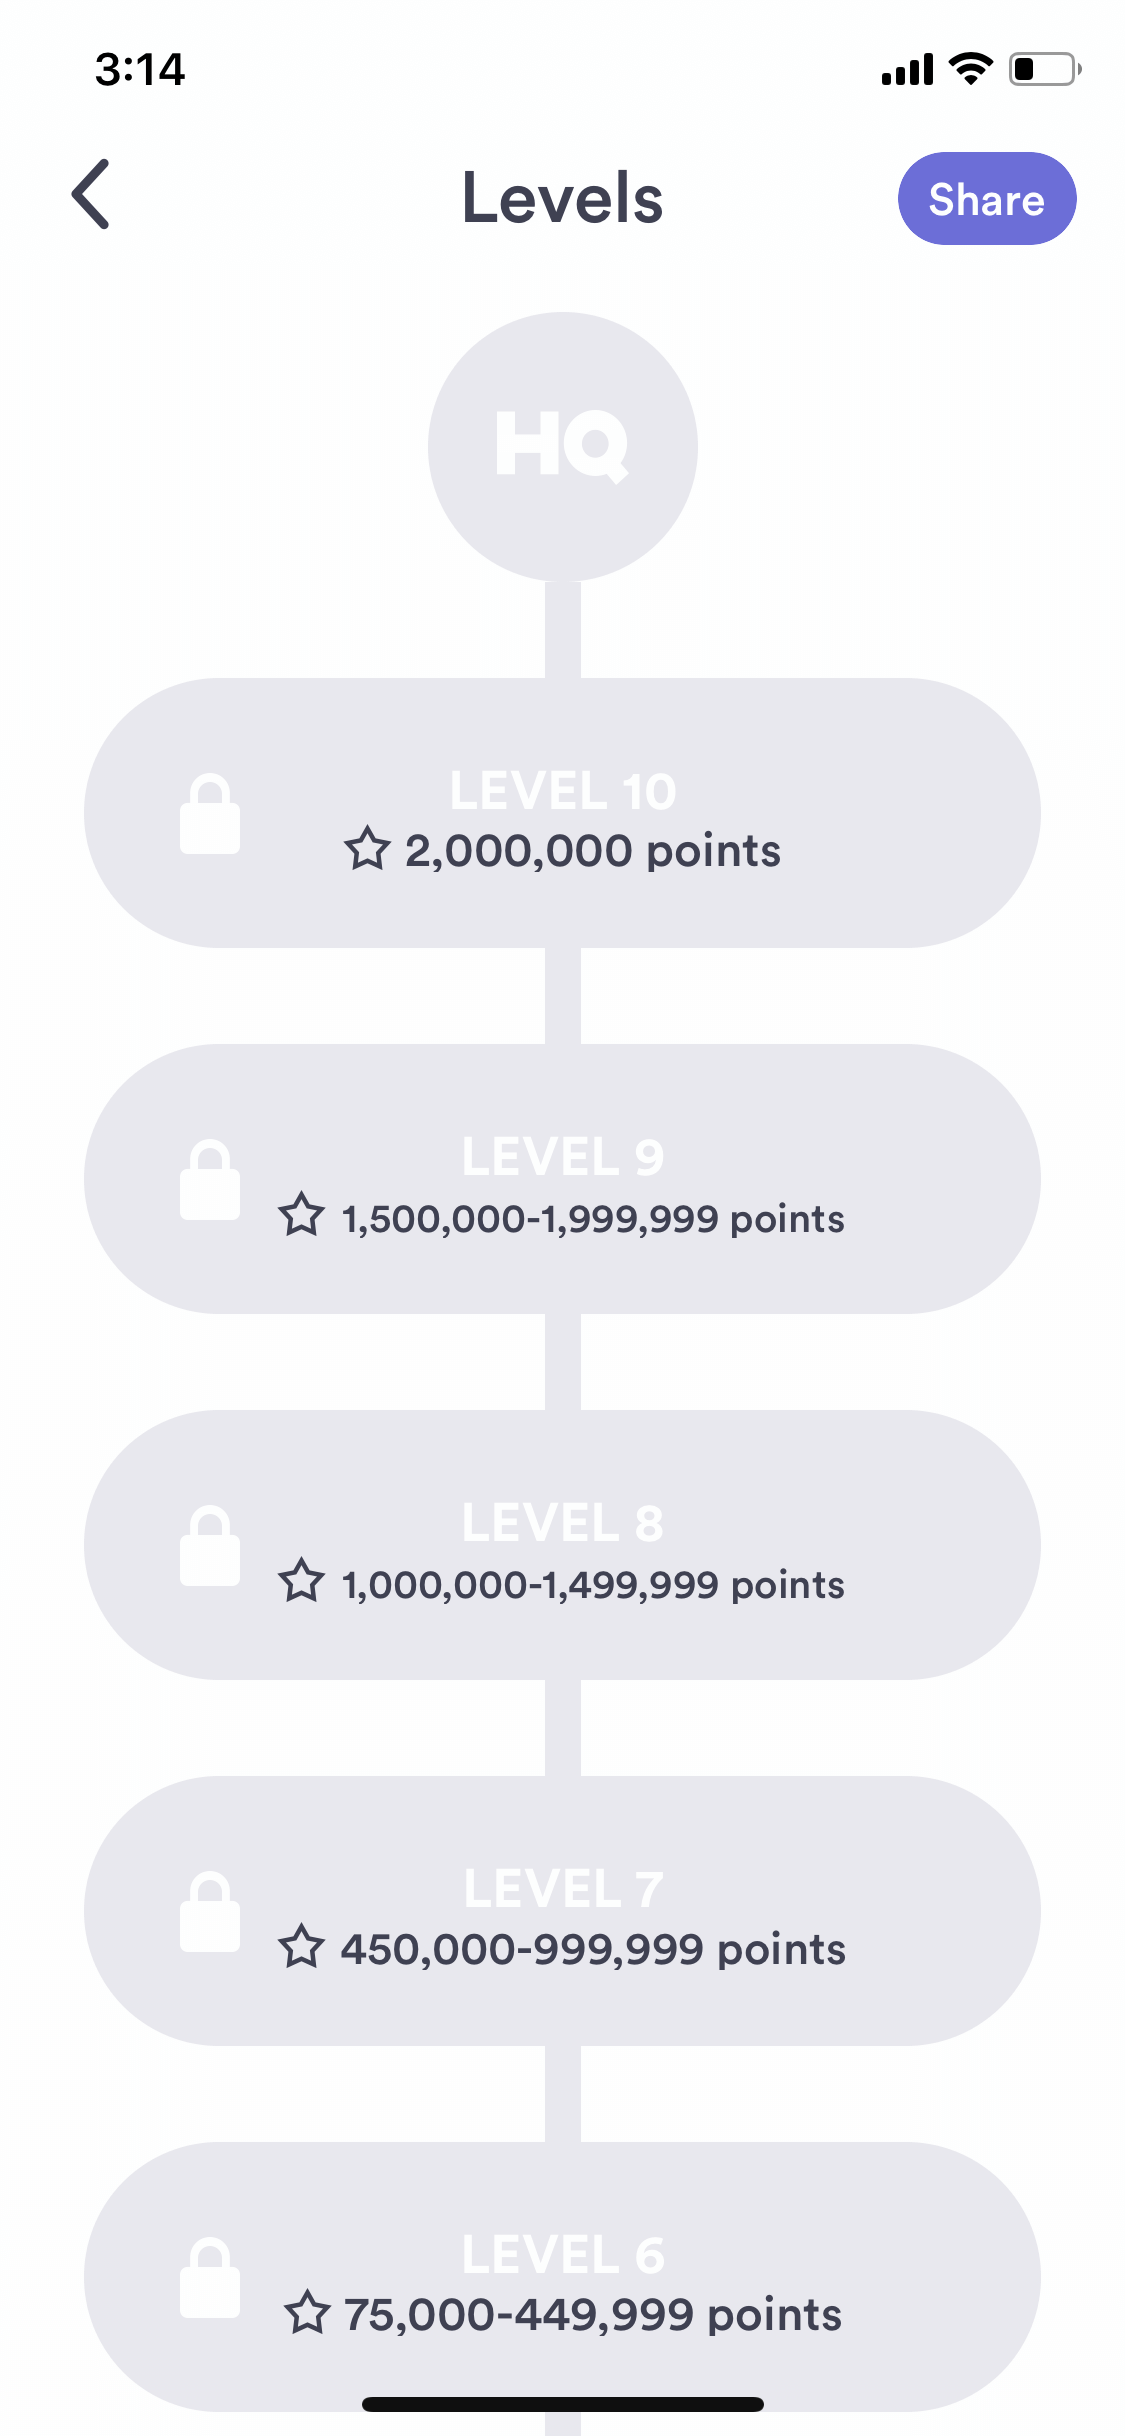Buttons: (884, 137, 1091, 253), (40, 134, 165, 256)
